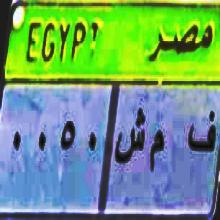0: (85, 128, 99, 162), (36, 126, 50, 158), (11, 121, 22, 157)
5: (59, 121, 77, 157)
faa: (185, 107, 215, 165)
meem: (147, 124, 166, 175)
sheen: (115, 102, 145, 178)
